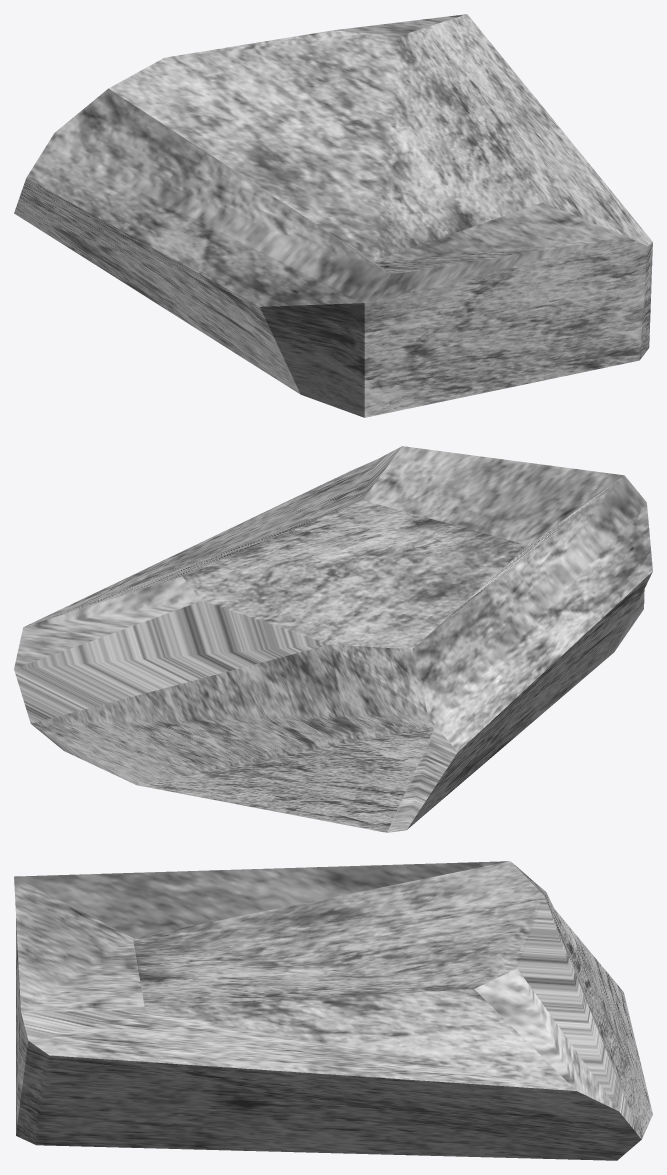
File: rock2.glb
3 views of the same model, one above another, from view 1: azimuth 30°, elevation 25°; view 2: azimuth 150°, elevation 25°; view 3: azimuth 270°, elevation 25° (orthographic). The views are drawn at different scales.
Parts seen in each view (by area): view 1: Cube; view 2: Cube; view 3: Cube.
Part boxes in pixels (<box>): Cube: <box>14,14,652,417</box>; Cube: <box>14,446,652,832</box>; Cube: <box>14,861,652,1160</box>.
Size of the model in its own units: 3.07 by 0.966 by 3.84.
Materials: 1 (1 with a texture image).
